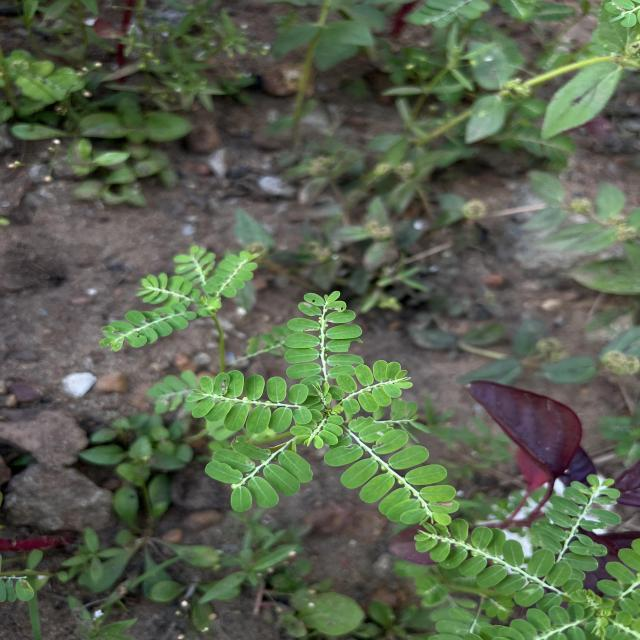Phyllanthus niruri: (322, 416, 462, 530), (412, 518, 584, 610), (532, 474, 624, 578), (197, 434, 315, 514), (181, 368, 315, 434), (282, 288, 362, 382), (326, 358, 414, 416)
